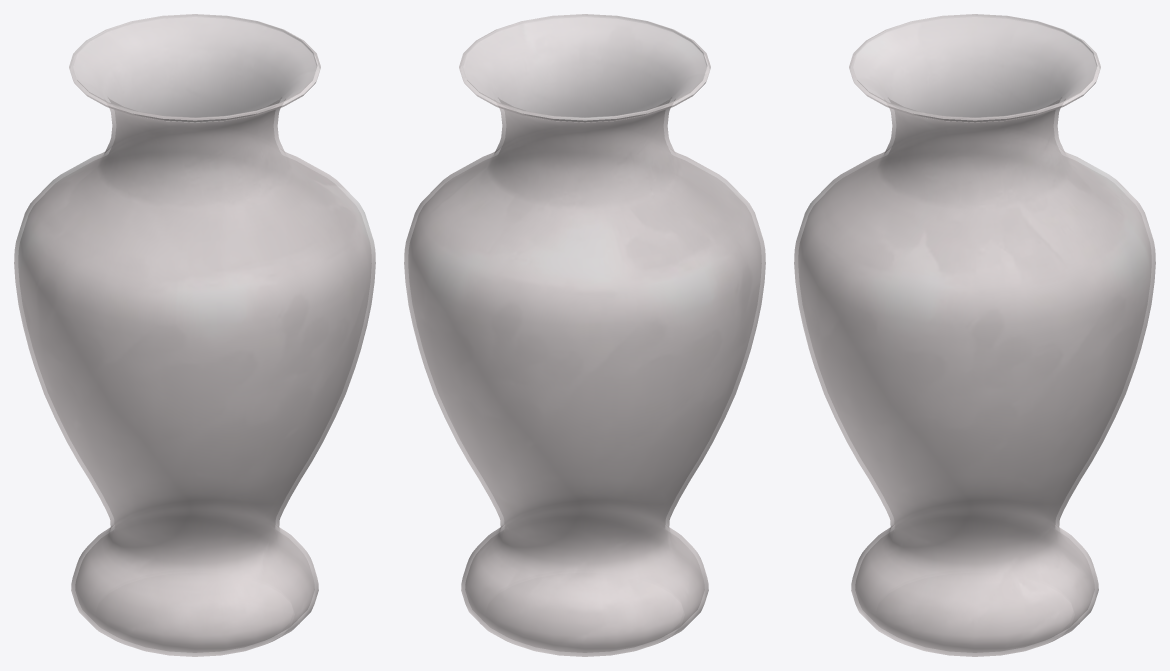
3 views of the same model, side by side, from view 1: azimuth 30°, elevation 25°; view 2: azimuth 150°, elevation 25°; view 3: azimuth 270°, elevation 25° (orthographic).
Parts seen in each view (by area): view 1: Object_4; view 2: Object_4; view 3: Object_4.
Part boxes in pixels (box(x1,y1,x2,y2)): Object_4: box(14, 14, 375, 656); Object_4: box(404, 14, 765, 656); Object_4: box(794, 14, 1155, 656).
Bounding box in the file's own units: 0.7428 × 1.24 × 0.7428.
Materials: 1 (1 with a texture image).
